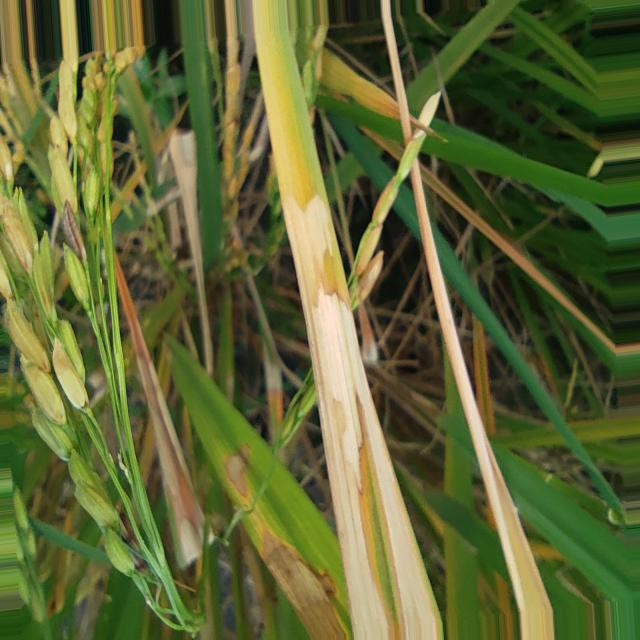Leaf_Blast: (410, 160, 554, 638), (421, 165, 620, 353), (321, 48, 400, 120), (381, 0, 411, 143), (361, 128, 400, 160)
Rice False Smut: (312, 293, 362, 493), (260, 530, 345, 640), (282, 193, 339, 287), (224, 445, 249, 497), (136, 358, 163, 404), (178, 518, 202, 564)
